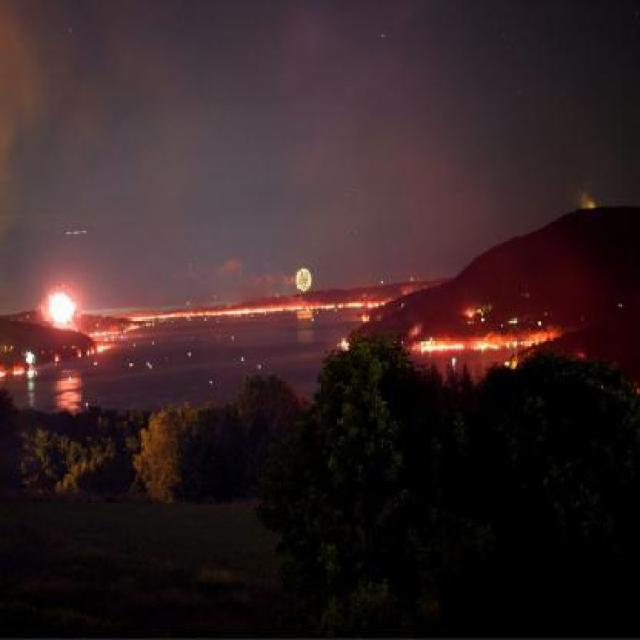Fire: (122, 292, 390, 312), (408, 325, 562, 350), (40, 282, 78, 330), (89, 318, 140, 337), (2, 364, 27, 378), (332, 334, 350, 352), (86, 342, 112, 353), (506, 353, 522, 370), (460, 308, 486, 318), (53, 350, 59, 364), (76, 348, 82, 358)
